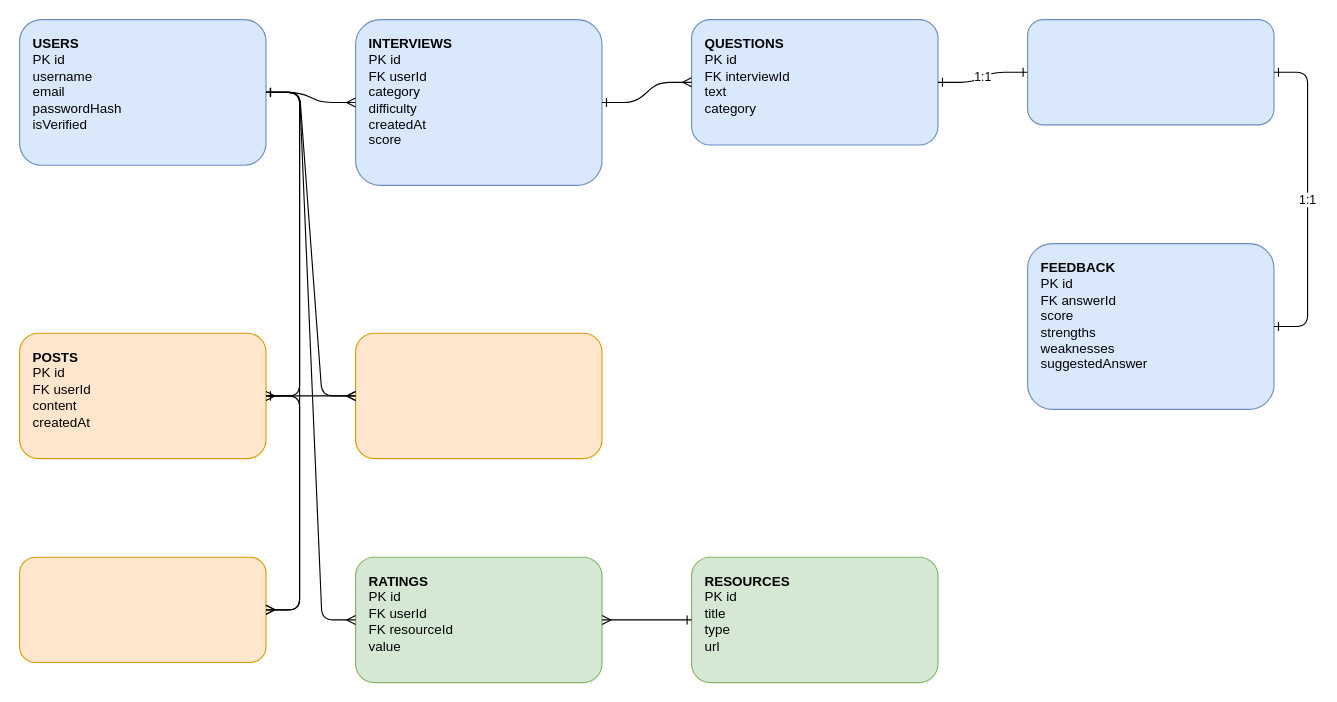
This 1337x702 diagram has some shape labels left out. Each missing label, with the centre of its shape:
"ANSWERS PK id FK questionId responseText" belongs at (1150,71).
"COMMENTS PK id FK postId FK userId content" belongs at (478,395).
"LIKES PK id FK userId FK postId" belongs at (142,609).
